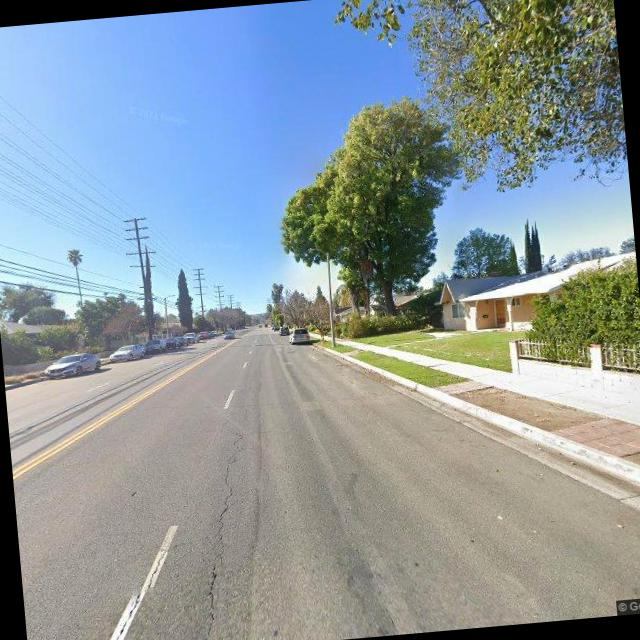pothole: (175, 394, 273, 640), (89, 525, 184, 640)
